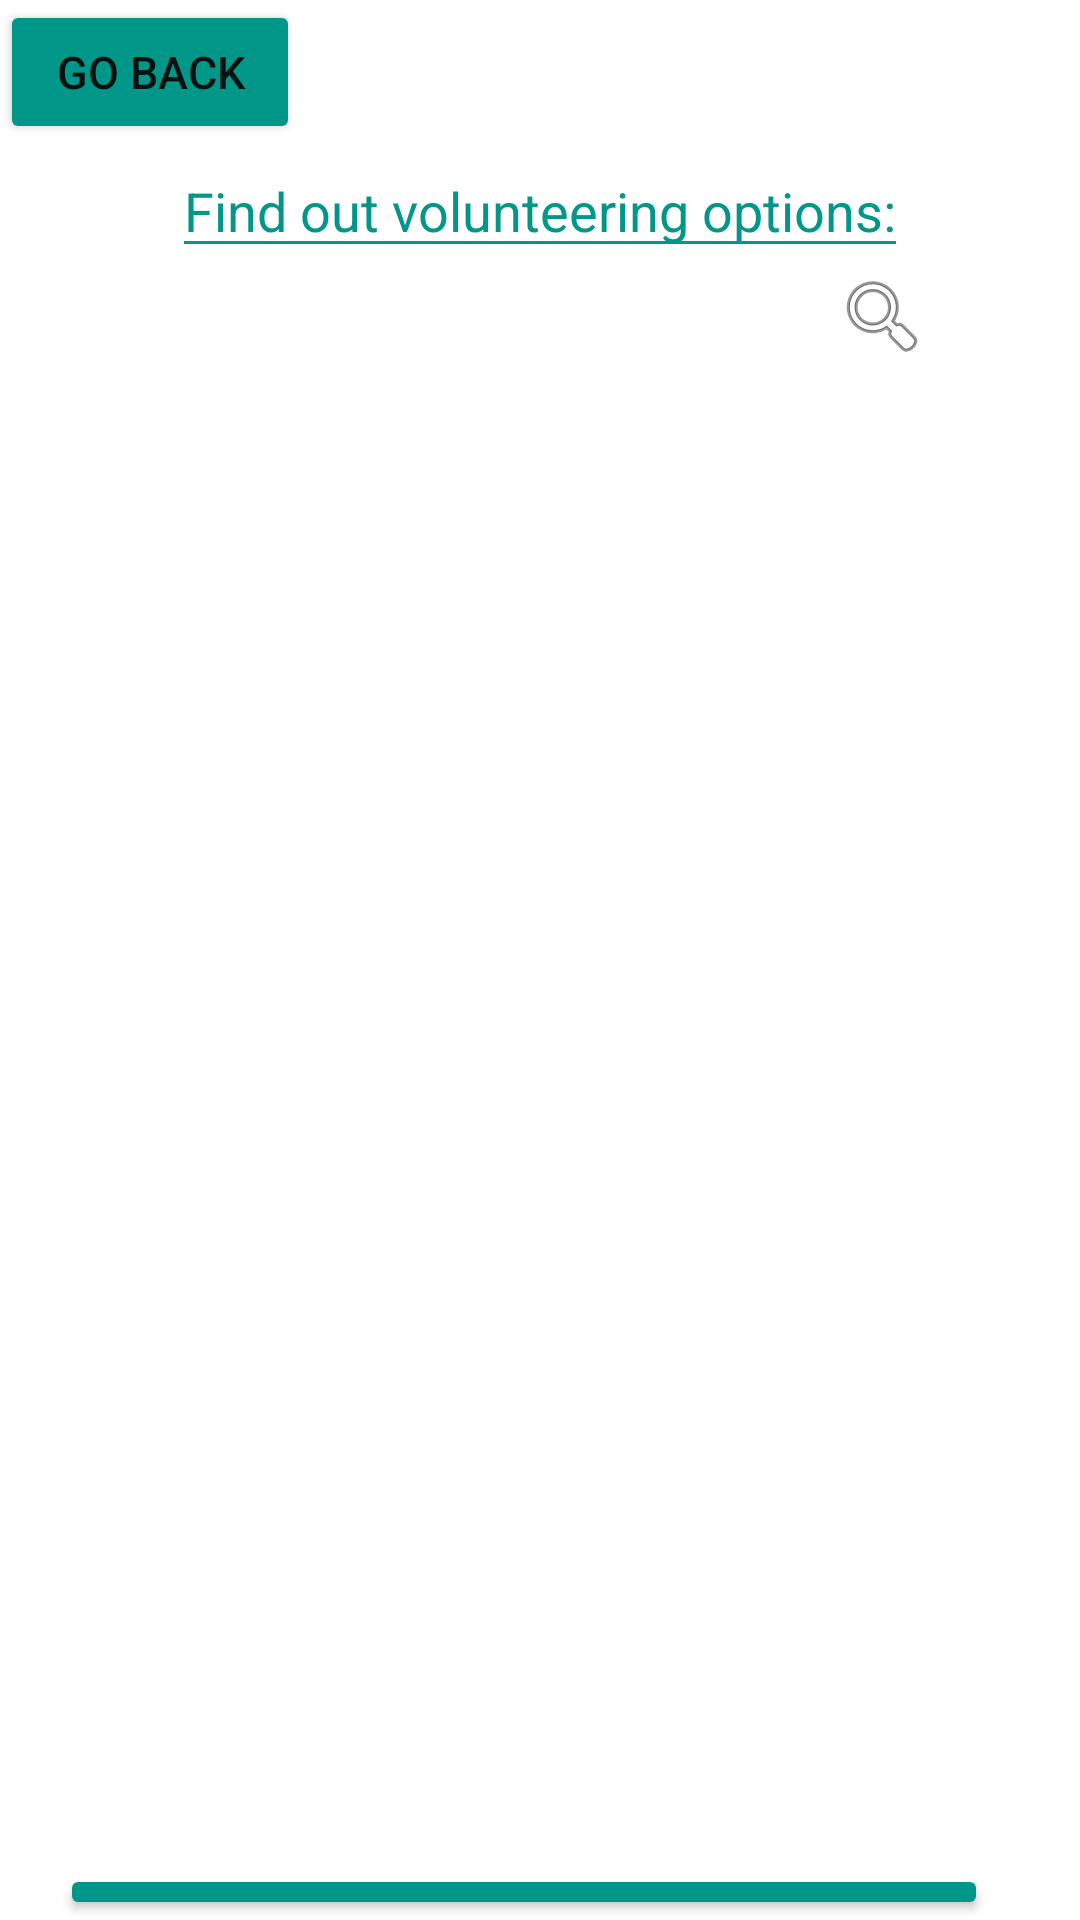

Screen size 1080 × 1920. Icon name, then its center in pixels as point (x, y):
search: point (882, 316)
